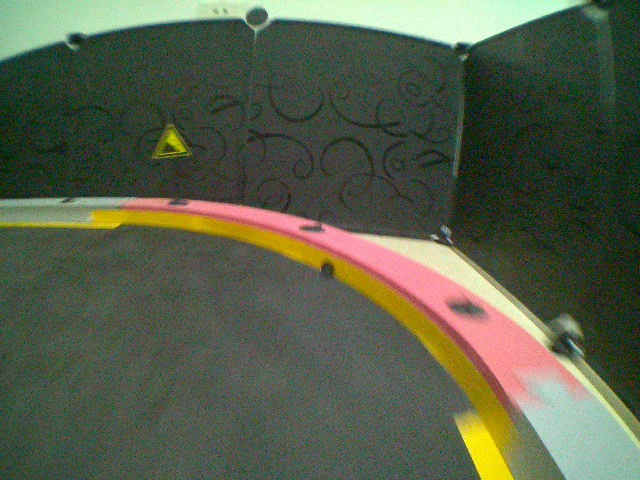fast: (147, 123, 197, 160)
